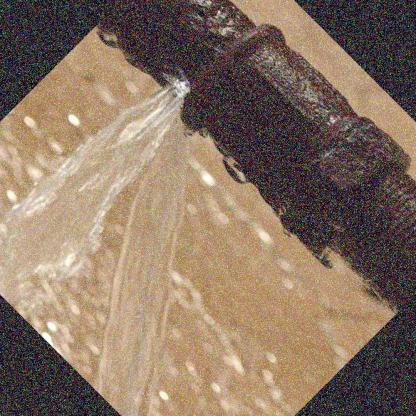burst: (123, 64, 240, 157)
